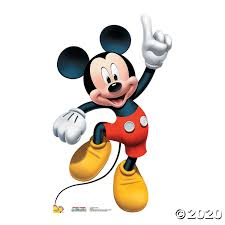mickey: (52, 13, 173, 213)
